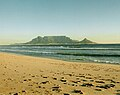human_footprint: (51, 84, 62, 92), (73, 88, 82, 94), (28, 74, 36, 78)
